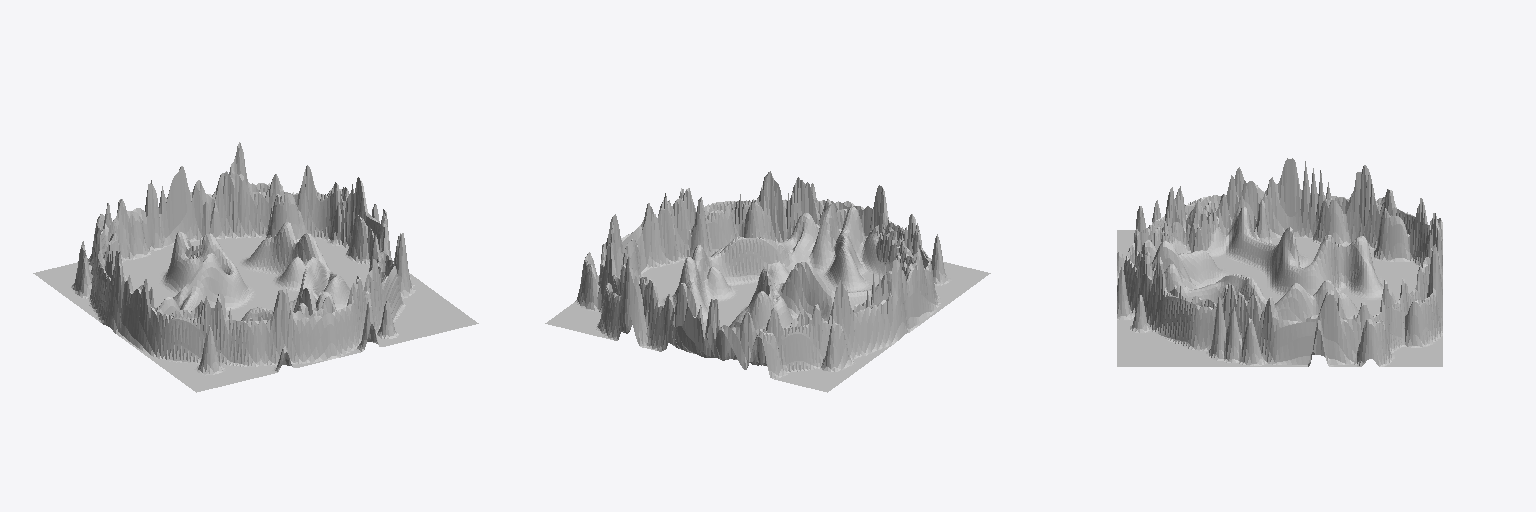
The model's file is wilke2.obj.
3 renders of one model, left to right at view 1: azimuth 30°, elevation 25°; view 2: azimuth 150°, elevation 25°; view 3: azimuth 270°, elevation 25°, orthographic.
Visible parts, largest first — view 1: pPlane1; view 2: pPlane1; view 3: pPlane1.
Part boxes in pixels (x1,y1,x2,y2): pPlane1: (33,142,478,392); pPlane1: (545,171,990,392); pPlane1: (1117,158,1442,366).
Size of the model in its own units: 15.56 by 4.47 by 15.56.